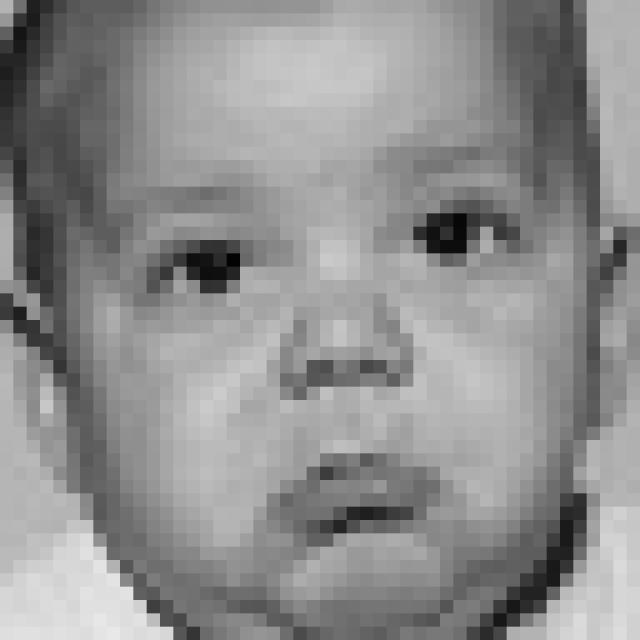sad: (94, 137, 548, 570)
